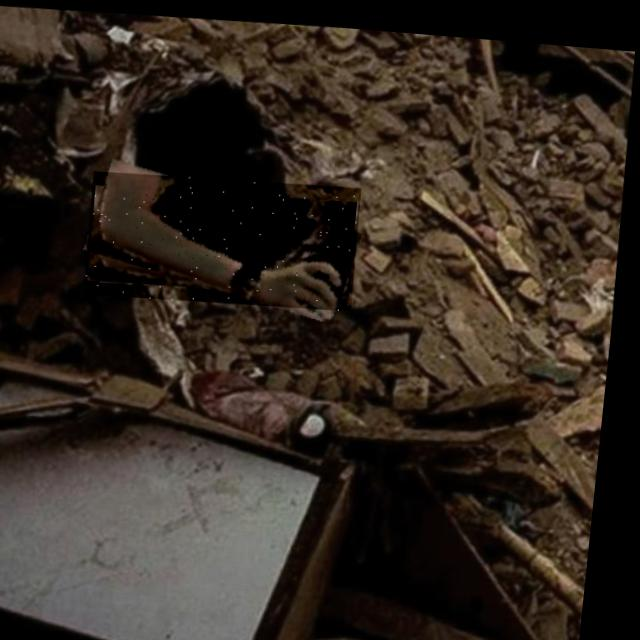Person in Rubble: (87, 164, 367, 309)
